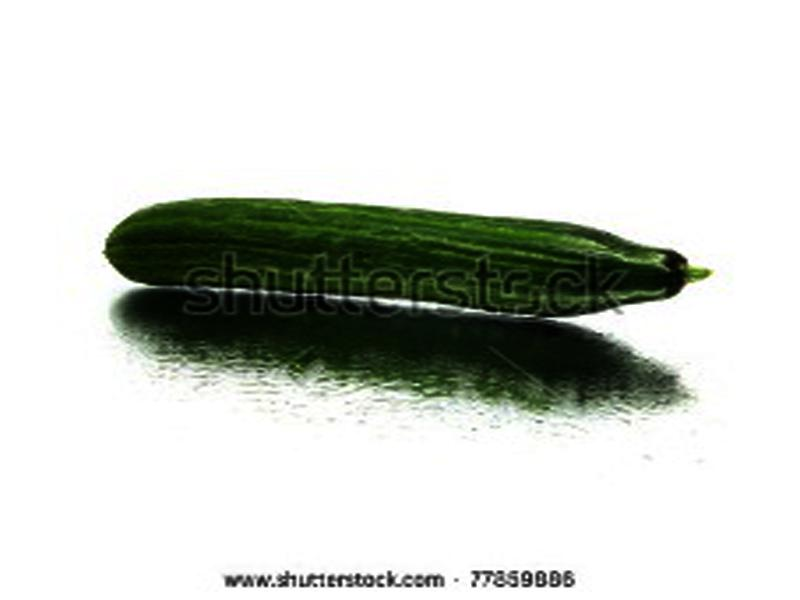Cucumber: (109, 196, 708, 317)
